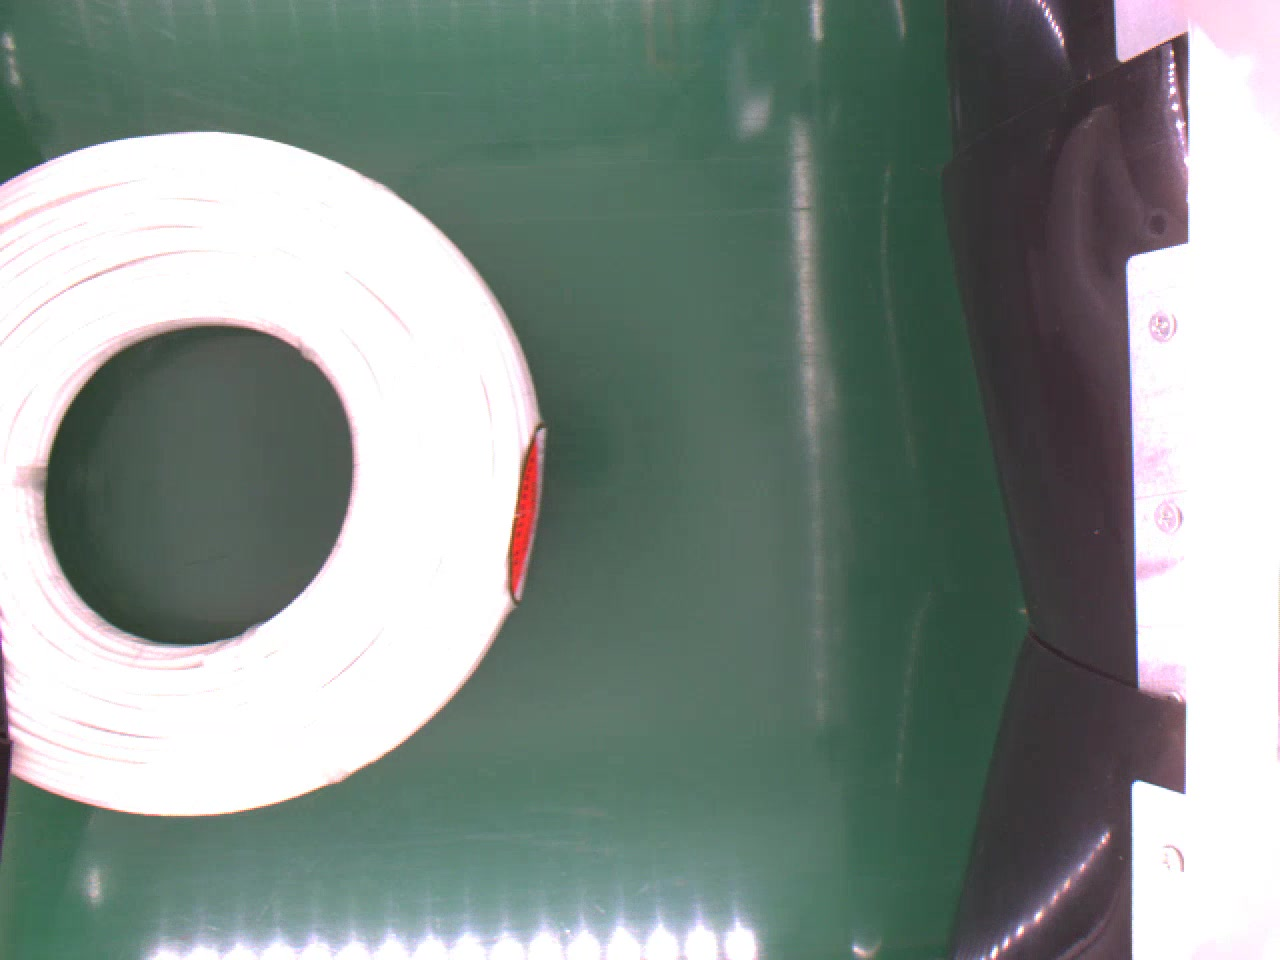white: (0, 128, 549, 819)
